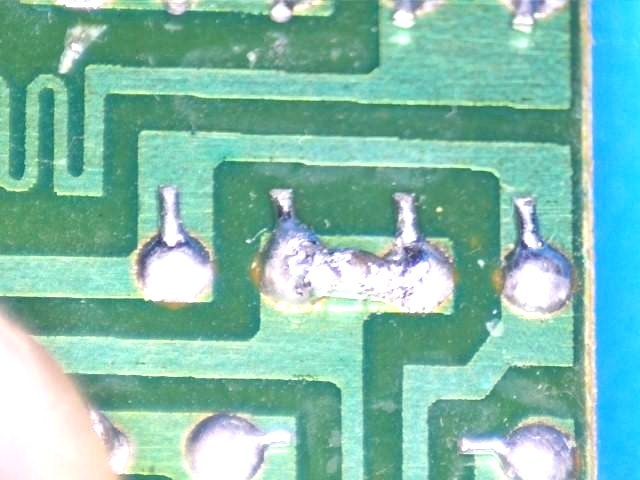pcb_defect: (263, 218, 453, 310)
